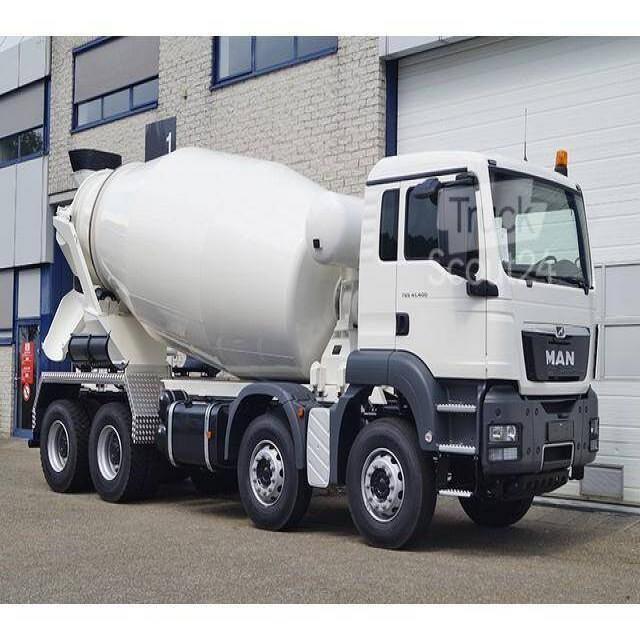Mixer Truck: (29, 148, 599, 550)
